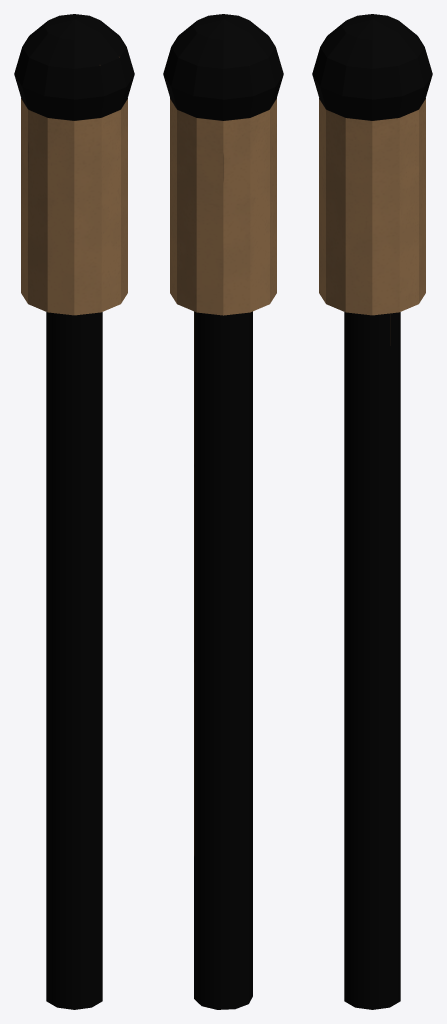
The model's file is puzzle_alavanca_cabo.glb.
The picture shows the model from 3 angles, left to right: view 1: azimuth 90°, elevation 25°; view 2: azimuth 150°, elevation 25°; view 3: azimuth 270°, elevation 25°; orthographic projection.
Visible parts, largest first — view 1: puzzle_alavanca_cabo; view 2: puzzle_alavanca_cabo; view 3: puzzle_alavanca_cabo.
Boxes of the visible parts, box(x1,y1,x2,y2) form: puzzle_alavanca_cabo: box(14, 14, 134, 1009); puzzle_alavanca_cabo: box(163, 14, 283, 1009); puzzle_alavanca_cabo: box(312, 14, 432, 1009).
Bounding box in the file's own units: 0.09 × 0.805 × 0.09.
Materials: 1 (1 with a texture image).
